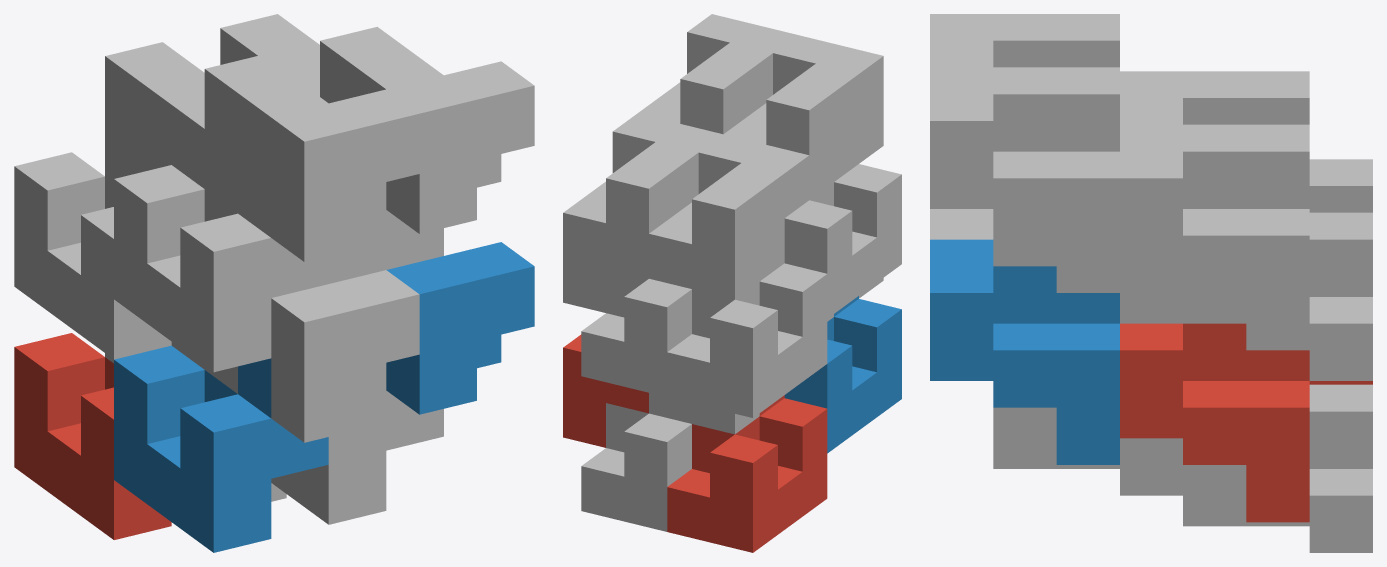
The model's file is tiling.obj.
3 views of the same model, side by side, from view 1: azimuth 30°, elevation 25°; view 2: azimuth 150°, elevation 25°; view 3: azimuth 270°, elevation 25° (orthographic). The views are drawn at different scales.
Parts seen in each view (by area): view 1: copy_1_domain_4, copy_2_domain_4, copy_1_domain_2, copy_2_domain_8, copy_2_domain_2, copy_1_domain_3, copy_1_domain_1, copy_2_domain_6, copy_2_domain_3, copy_1_domain_6, copy_1_domain_8, copy_2_domain_7; view 2: copy_1_domain_3, copy_1_domain_1, copy_2_domain_3, copy_2_domain_7, copy_2_domain_4, copy_1_domain_4, copy_2_domain_8, copy_1_domain_2, copy_1_domain_7, copy_1_domain_5, copy_2_domain_5, copy_2_domain_1; view 3: copy_2_domain_7, copy_2_domain_8, copy_2_domain_6, copy_2_domain_5, copy_1_domain_5, copy_1_domain_7, copy_2_domain_3, copy_2_domain_4, copy_1_domain_6, copy_1_domain_8, copy_1_domain_3, copy_2_domain_2.
Part boxes in pixels (x1=…): copy_1_domain_4: x1=114, y1=153, x2=328, y2=372; copy_2_domain_4: x1=204, y1=55, x2=419, y2=261; copy_1_domain_2: x1=114, y1=345, x2=328, y2=552; copy_2_domain_8: x1=320, y1=26, x2=534, y2=233; copy_2_domain_2: x1=204, y1=270, x2=419, y2=442; copy_1_domain_3: x1=14, y1=141, x2=171, y2=359; copy_1_domain_1: x1=14, y1=333, x2=171, y2=539; copy_2_domain_6: x1=386, y1=242, x2=534, y2=414; copy_2_domain_3: x1=105, y1=42, x2=204, y2=188; copy_1_domain_6: x1=271, y1=390, x2=443, y2=524; copy_1_domain_8: x1=328, y1=210, x2=443, y2=283; copy_2_domain_7: x1=220, y1=14, x2=319, y2=96; copy_1_domain_3: x1=667, y1=218, x2=827, y2=417; copy_1_domain_1: x1=667, y1=395, x2=827, y2=552; copy_2_domain_3: x1=649, y1=134, x2=809, y2=299; copy_2_domain_7: x1=563, y1=113, x2=722, y2=312; copy_2_domain_4: x1=724, y1=35, x2=883, y2=199; copy_1_domain_4: x1=784, y1=119, x2=901, y2=318; copy_2_domain_8: x1=638, y1=14, x2=797, y2=134; copy_1_domain_2: x1=784, y1=296, x2=901, y2=453; copy_1_domain_7: x1=581, y1=268, x2=691, y2=396; copy_1_domain_5: x1=581, y1=403, x2=691, y2=531; copy_2_domain_5: x1=563, y1=334, x2=648, y2=447; copy_2_domain_1: x1=649, y1=393, x2=759, y2=434; copy_2_domain_7: x1=1120, y1=124, x2=1309, y2=350; copy_2_domain_8: x1=930, y1=67, x2=1119, y2=292; copy_2_domain_6: x1=930, y1=239, x2=1119, y2=464; copy_2_domain_5: x1=1120, y1=323, x2=1309, y2=522; copy_1_domain_5: x1=1183, y1=384, x2=1372, y2=552; copy_1_domain_7: x1=1183, y1=212, x2=1372, y2=380; copy_2_domain_3: x1=1120, y1=71, x2=1309, y2=124; copy_2_domain_4: x1=930, y1=14, x2=1119, y2=67; copy_1_domain_6: x1=993, y1=407, x2=1182, y2=495; copy_1_domain_8: x1=993, y1=235, x2=1182, y2=323; copy_1_domain_3: x1=1309, y1=159, x2=1372, y2=212; copy_2_domain_2: x1=930, y1=209, x2=993, y2=239.
Size of the model in its own units: 5 by 8 by 7.
